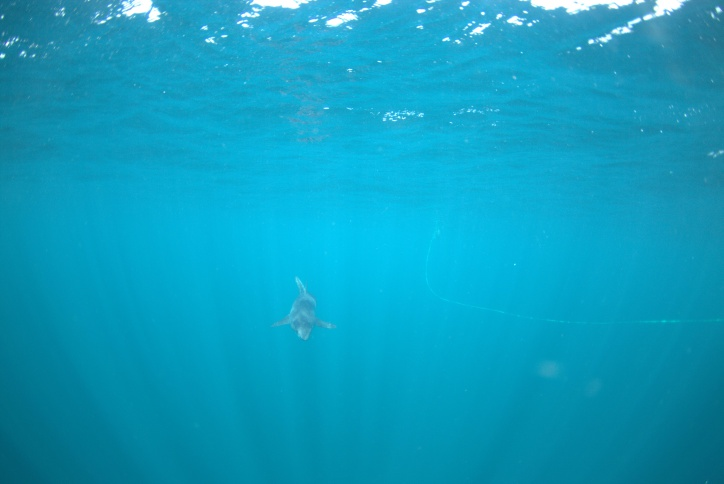Mako: (266, 270, 343, 345)
